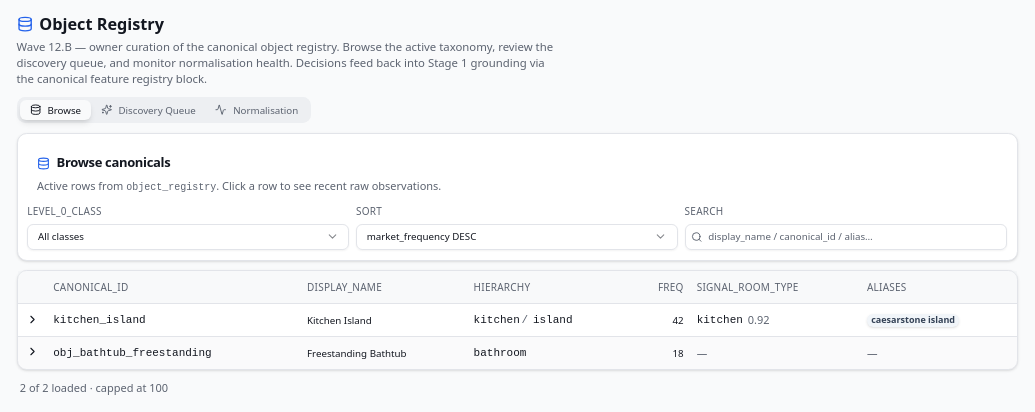
it: Browse tab › filters rows by search text (client-side)
Expected: the text "kitchen_island" is shown, [47,304,301,337]
In the field with test id "browse-search-input": (846, 237) [685,224,1007,250], type "bathtub"
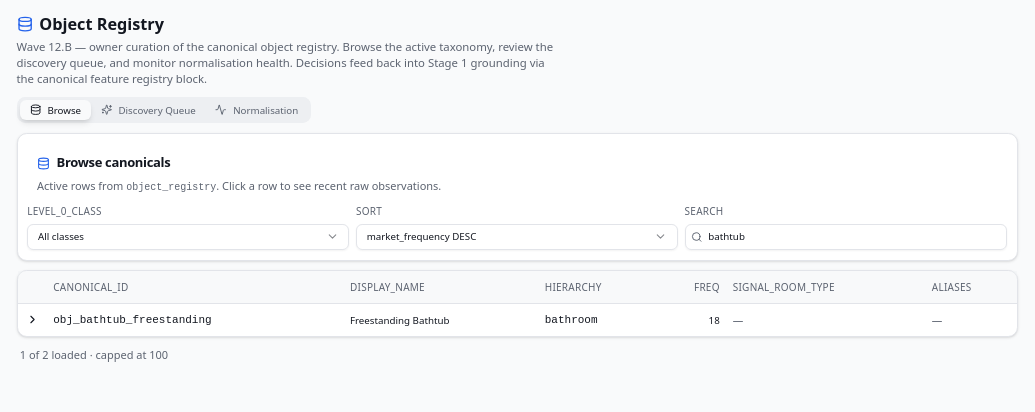
Expected: the text "obj_bathtub_freestanding" is shown, [47,304,344,336]
Expected: the text "kitchen_island" is gone
